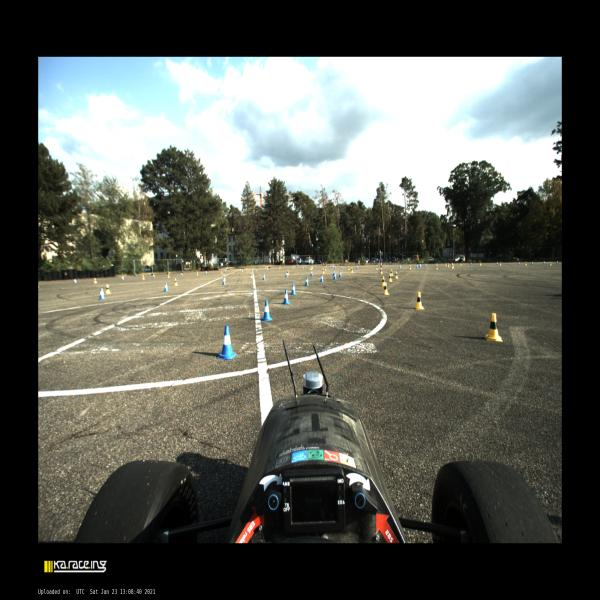blue_cone: (216, 325, 236, 360), (261, 300, 273, 321), (282, 289, 290, 305), (98, 288, 106, 300), (290, 282, 297, 294), (163, 282, 169, 292), (305, 276, 310, 286), (338, 270, 342, 278), (333, 272, 337, 280), (320, 274, 324, 282), (262, 273, 266, 280), (222, 278, 226, 284), (73, 278, 77, 283), (285, 272, 288, 278), (310, 270, 313, 276), (332, 270, 335, 275), (121, 276, 124, 280), (419, 263, 421, 268), (399, 264, 401, 268), (416, 264, 418, 268), (153, 274, 155, 278), (205, 270, 207, 274), (356, 265, 358, 269), (181, 273, 183, 276), (304, 265, 306, 268), (470, 262, 472, 265), (543, 261, 545, 264), (224, 270, 226, 272), (240, 268, 241, 272), (264, 268, 266, 270), (294, 266, 296, 268), (331, 266, 333, 268), (334, 266, 336, 268), (341, 265, 342, 269), (518, 262, 520, 264), (531, 262, 533, 264), (557, 260, 558, 264), (280, 266, 281, 269), (326, 265, 327, 268), (330, 265, 331, 268), (425, 263, 426, 266), (451, 262, 452, 265), (497, 262, 498, 265), (253, 268, 254, 270), (315, 266, 316, 268), (333, 266, 334, 268)
yellow_cone: (484, 312, 503, 342), (415, 292, 425, 310), (382, 282, 390, 295), (105, 284, 112, 294), (388, 273, 393, 282), (394, 271, 399, 279), (174, 278, 178, 286), (390, 268, 394, 276), (382, 276, 385, 286), (222, 274, 226, 280), (350, 267, 354, 273), (93, 278, 97, 284), (322, 268, 325, 274), (380, 268, 383, 274), (435, 265, 438, 270), (142, 275, 145, 280), (451, 264, 454, 269), (250, 272, 252, 278), (287, 269, 289, 275), (376, 265, 378, 270), (409, 265, 411, 270), (168, 273, 170, 278), (324, 266, 326, 271), (445, 262, 447, 267), (525, 261, 527, 266), (196, 272, 198, 276), (310, 266, 312, 270), (309, 266, 311, 270), (348, 266, 350, 270), (460, 262, 462, 266), (550, 262, 552, 266), (499, 262, 501, 265), (448, 262, 449, 267), (221, 270, 222, 274), (255, 268, 257, 270), (279, 266, 280, 270), (292, 266, 294, 268), (302, 266, 304, 268), (311, 266, 313, 268), (480, 262, 481, 266), (242, 269, 243, 272), (267, 267, 268, 270)
